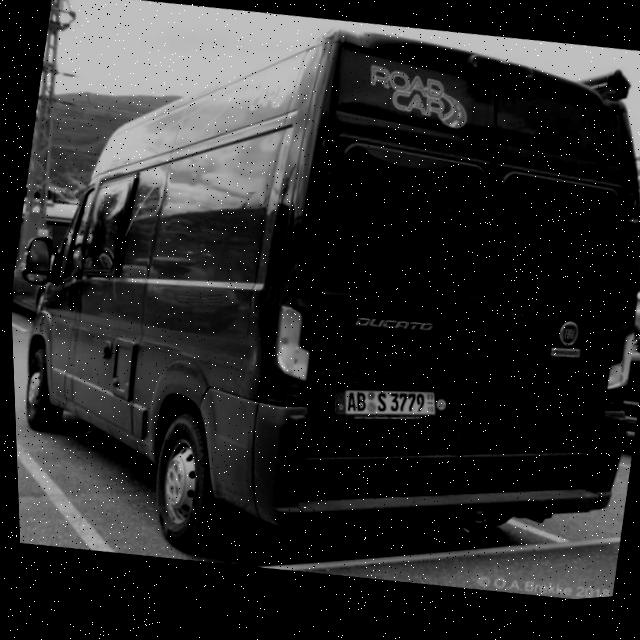license-plates: (336, 391, 435, 415)
